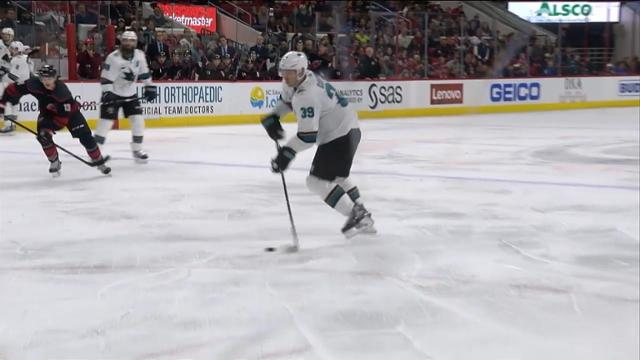geico: (490, 79, 545, 105)
